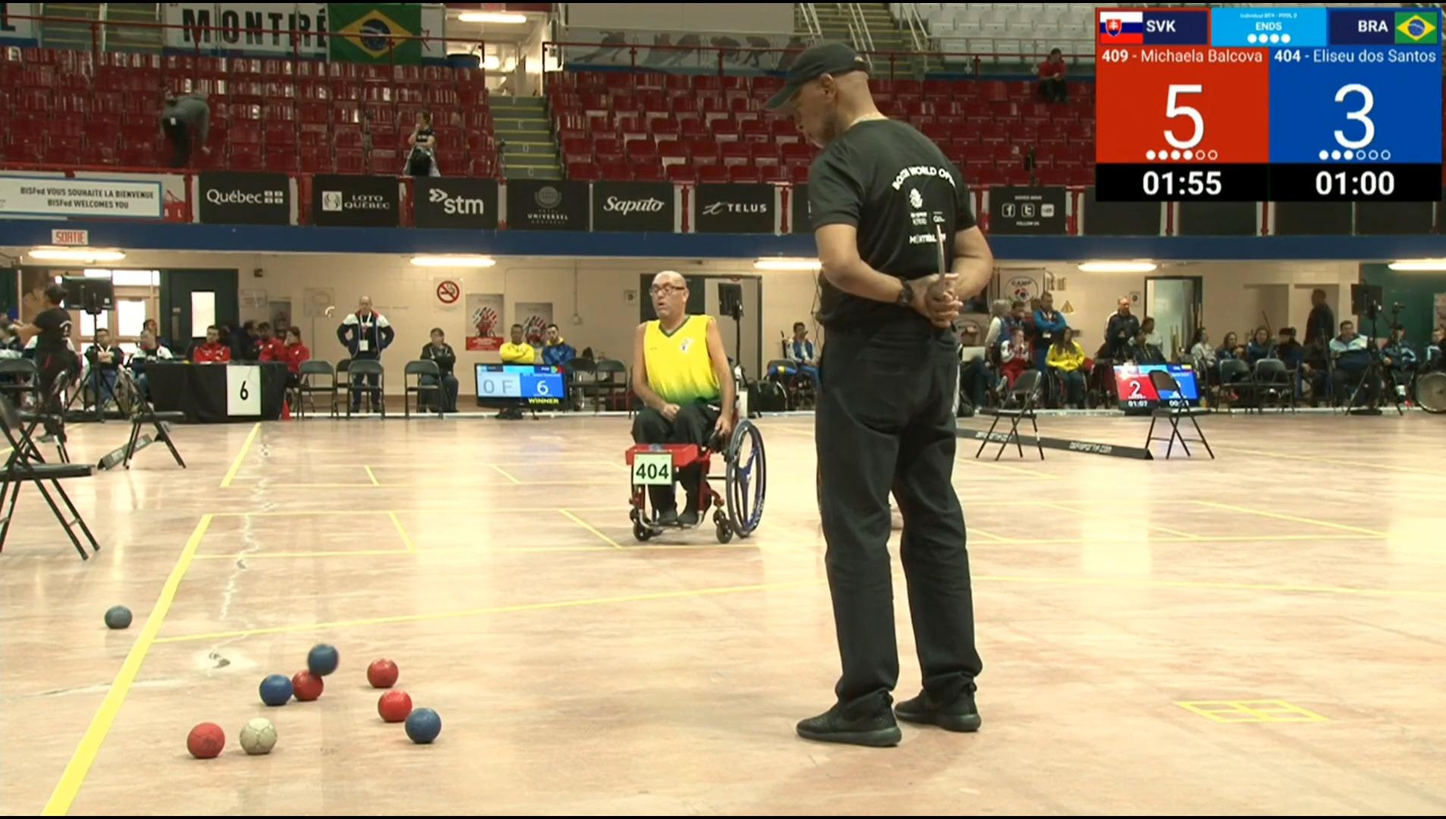blue_ball: (406, 709, 442, 743), (306, 645, 338, 677), (260, 674, 291, 705), (105, 605, 132, 629)
red_ball: (186, 725, 225, 757), (380, 691, 411, 722), (367, 658, 398, 688), (293, 673, 323, 699)
white_ball: (241, 720, 276, 755)
